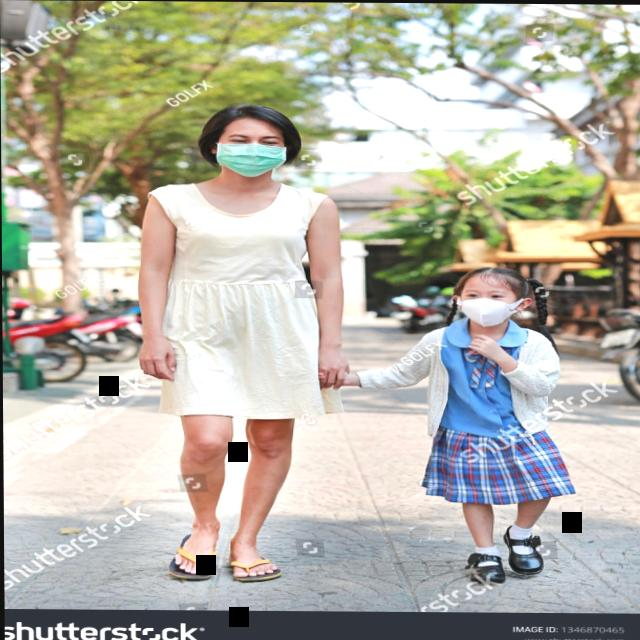Mask: (193, 102, 310, 181), (437, 263, 549, 331)
